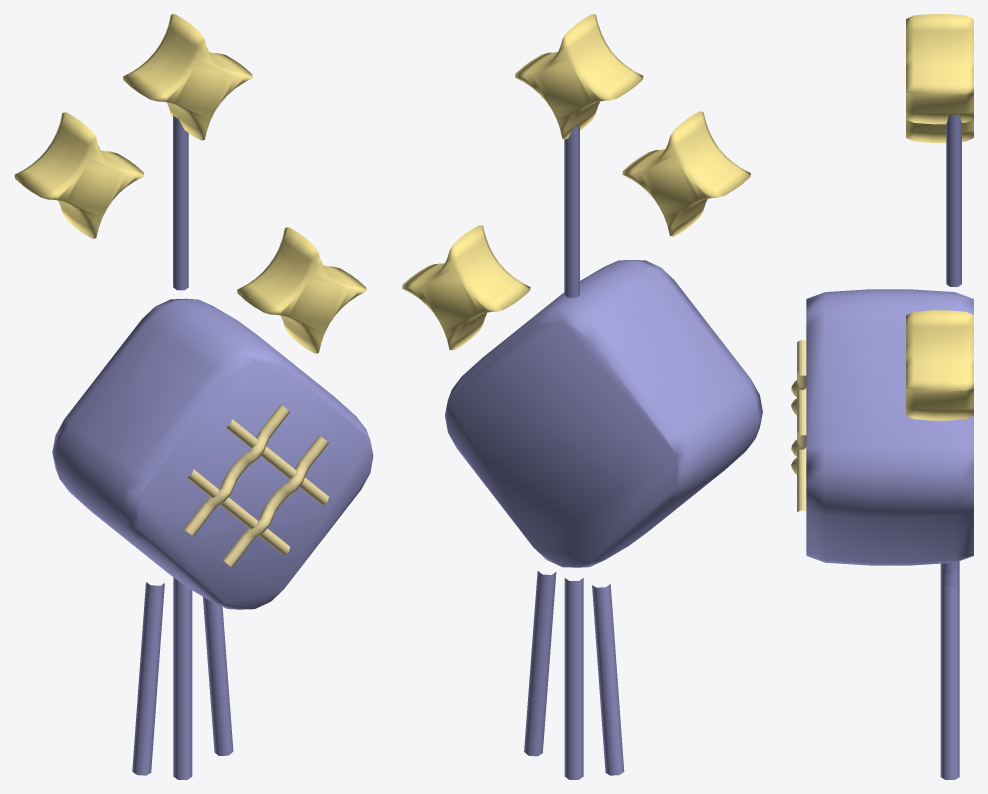
File: decor_6_star.glb
The picture shows the model from 3 angles, left to right: view 1: azimuth 30°, elevation 25°; view 2: azimuth 150°, elevation 25°; view 3: azimuth 270°, elevation 25°; orthographic projection.
Visible parts, largest first — view 1: decor_6_star; view 2: decor_6_star; view 3: decor_6_star.
Part boxes in pixels (x1,y1,x2,y2): decor_6_star: (14, 14, 373, 779); decor_6_star: (402, 14, 762, 779); decor_6_star: (791, 14, 973, 779).
Bounding box in the file's own units: 4.79 × 10.57 × 2.31.
